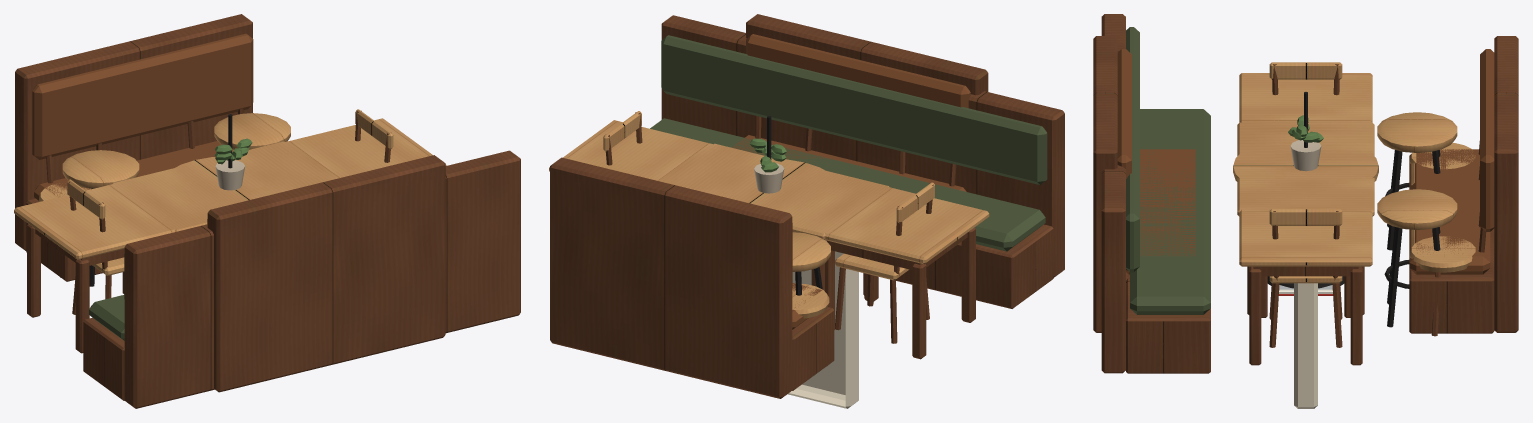
File: cafe-kit.glb
The picture shows the model from 3 angles, left to right: view 1: azimuth 30°, elevation 25°; view 2: azimuth 150°, elevation 25°; view 3: azimuth 270°, elevation 25°; orthographic projection. The views are drawn at different scales.
Visible parts, largest first — view 1: set_booth, set_communal, set_two, set_bar, set_four; view 2: set_communal, set_booth, set_two, lightbox_body, set_four, set_bar; view 3: set_communal, set_booth, set_two, set_bar, lightbox_body, set_four.
Boxes of the visible parts, bbox=[...] form: set_booth: bbox=[15, 14, 445, 392]; set_communal: bbox=[14, 118, 520, 408]; set_two: bbox=[67, 109, 393, 314]; set_bar: bbox=[62, 113, 290, 286]; set_four: bbox=[46, 108, 284, 231]; set_communal: bbox=[549, 15, 1064, 365]; set_booth: bbox=[550, 14, 988, 398]; set_two: bbox=[603, 111, 934, 343]; lightbox_body: bbox=[788, 251, 858, 408]; set_four: bbox=[662, 116, 956, 295]; set_bar: bbox=[792, 232, 830, 295]; set_communal: bbox=[1101, 14, 1475, 373]; set_booth: bbox=[1093, 36, 1518, 333]; set_two: bbox=[1233, 62, 1378, 347]; set_bar: bbox=[1377, 112, 1457, 327]; lightbox_body: bbox=[1294, 283, 1317, 408]; set_four: bbox=[1237, 122, 1486, 314].
Size of the model in its own units: 2.3 by 1.5 by 2.1.
13 materials, 2 textured.
